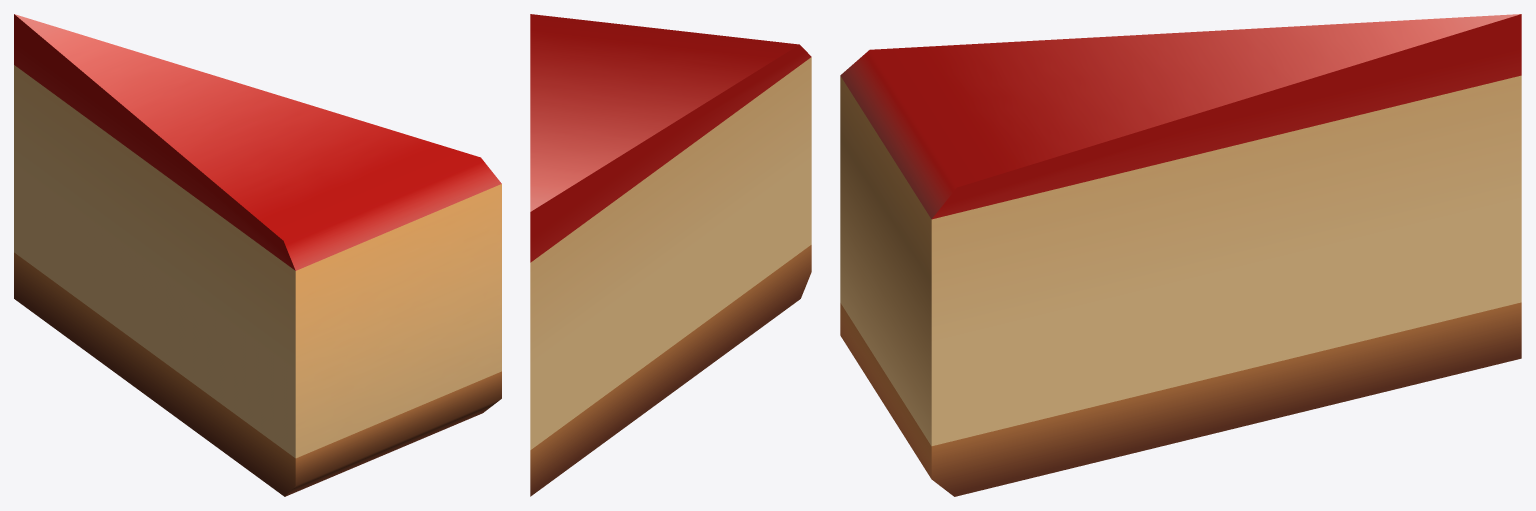
File: m_CheeseCake06_Slice.fbx
3 views of the same model, side by side, from view 1: azimuth 30°, elevation 25°; view 2: azimuth 150°, elevation 25°; view 3: azimuth 270°, elevation 25° (orthographic). The views are drawn at different scales.
Parts seen in each view (by area): view 1: m_CheeseCake06_Slice; view 2: m_CheeseCake06_Slice; view 3: m_CheeseCake06_Slice.
Boxes of the visible parts, x1=… form: m_CheeseCake06_Slice: x1=14, y1=14, x2=501, y2=496; m_CheeseCake06_Slice: x1=530, y1=14, x2=811, y2=496; m_CheeseCake06_Slice: x1=840, y1=14, x2=1521, y2=496.
Bounding box in the file's own units: 7 × 7.81 × 14.
